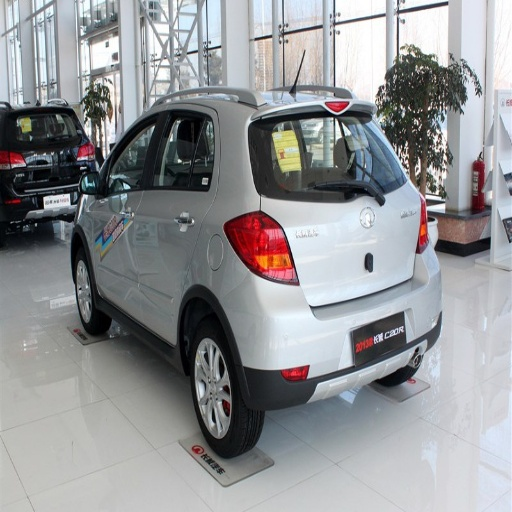back_bumper: (217, 253, 441, 408)
back_glass: (250, 114, 406, 197)
back_left_door: (139, 107, 215, 332)
tailgate: (281, 187, 413, 307)
trunk: (269, 195, 373, 250), (372, 191, 422, 289)
